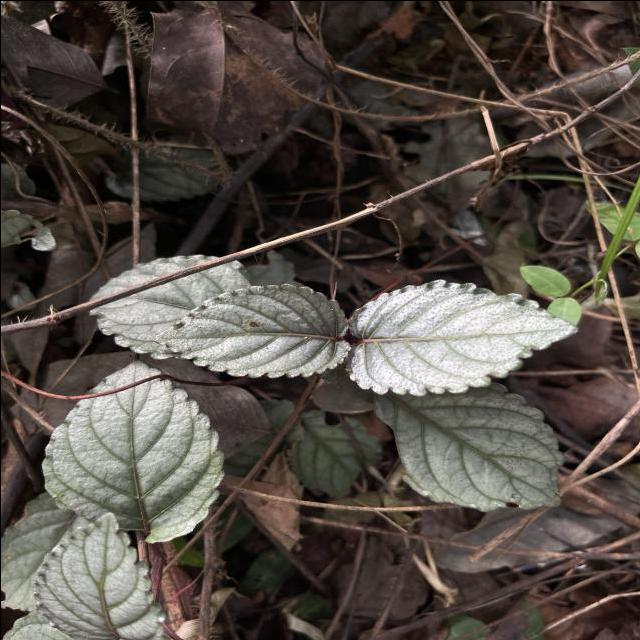Hemigraphis colorata: (36, 354, 228, 544), (341, 274, 585, 398), (366, 381, 566, 514), (146, 280, 353, 380), (28, 508, 168, 640)
